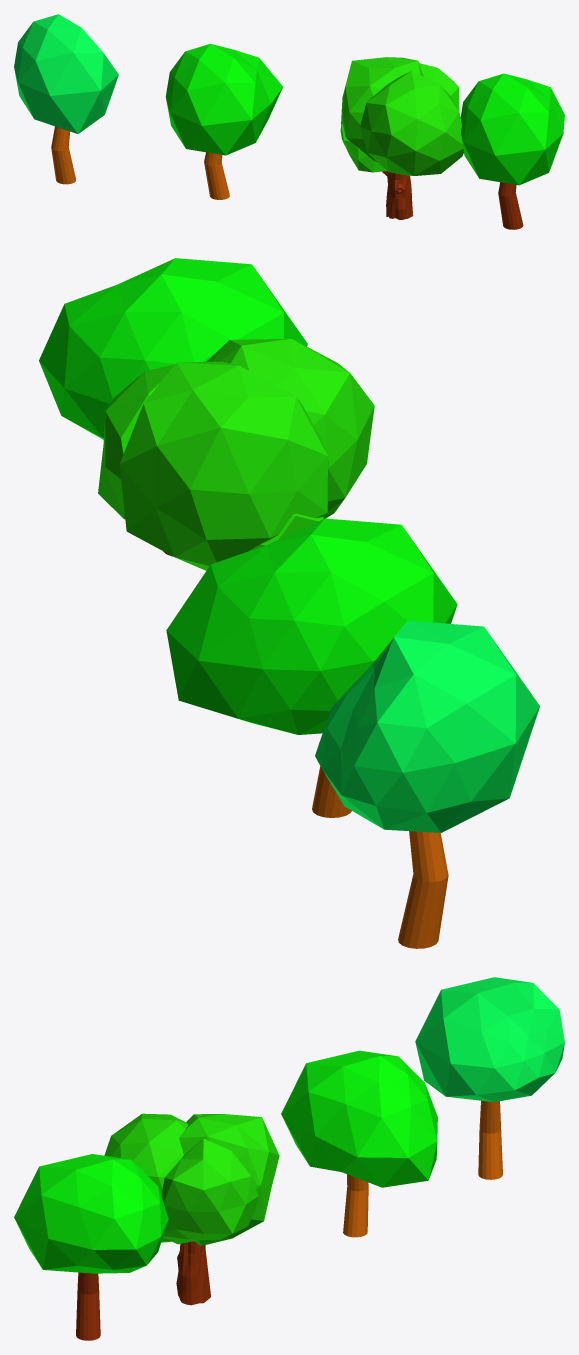
File: treeS.fbx
The picture shows the model from 3 angles, top to bottom: view 1: azimuth 30°, elevation 25°; view 2: azimuth 150°, elevation 25°; view 3: azimuth 270°, elevation 25°; orthographic projection. The views are drawn at different scales.
Parts seen in each view (by area): view 1: tree, Цилиндр.001, Цилиндр, Икосфера.003; view 2: tree, Цилиндр.001, Икосфера.003, Цилиндр; view 3: Цилиндр.001, tree, Икосфера.003, Цилиндр.
Boxes of the visible parts, bbox=[...] form: tree: bbox=[340, 57, 463, 219]; Цилиндр.001: bbox=[165, 43, 282, 199]; Цилиндр: bbox=[460, 73, 564, 229]; Икосфера.003: bbox=[14, 14, 118, 184]; tree: bbox=[98, 338, 374, 570]; Цилиндр.001: bbox=[166, 518, 457, 817]; Икосфера.003: bbox=[315, 620, 539, 948]; Цилиндр: bbox=[39, 258, 307, 556]; Цилиндр.001: bbox=[281, 1050, 437, 1237]; tree: bbox=[104, 1113, 279, 1305]; Икосфера.003: bbox=[415, 977, 564, 1179]; Цилиндр: bbox=[14, 1154, 168, 1340].
Size of the model in its own units: 4377 by 1721 by 4446.
